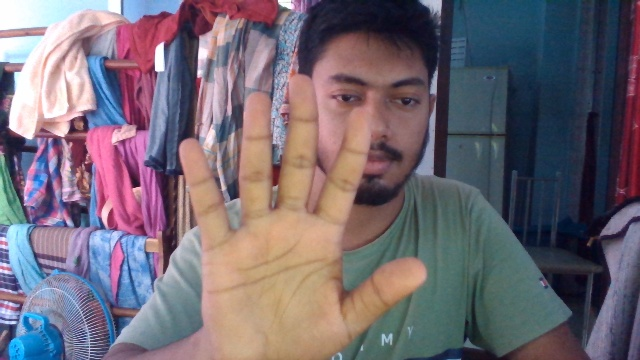hello: (158, 60, 426, 360)
